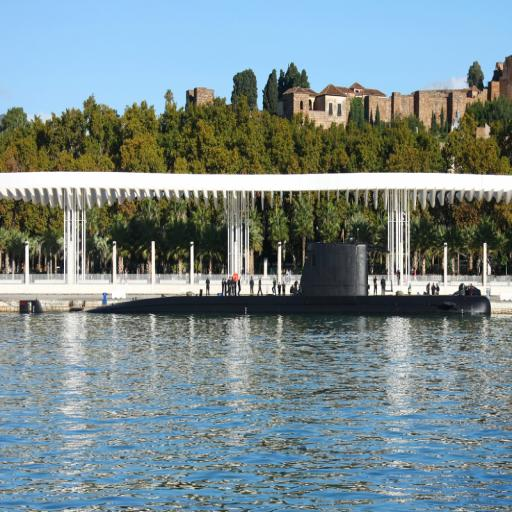submarine: (85, 241, 494, 316)
